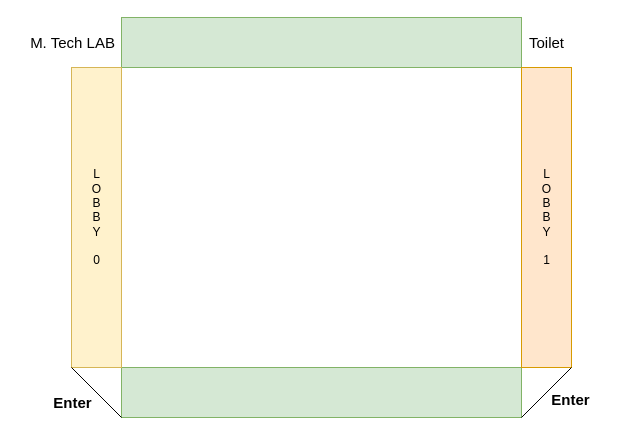
The diagram is 617 pixels wide and 436 high, and some of its shapes have lost their labels. The shapes that lost their labels are listed below. From the top down, each one's centre as x and y in pixels, then its label:
At point (321, 42): "LOBBY 2".
At point (321, 392): "LOBBY 3".
